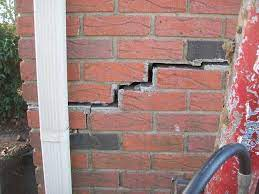stairstep_crack: (69, 58, 229, 130)
